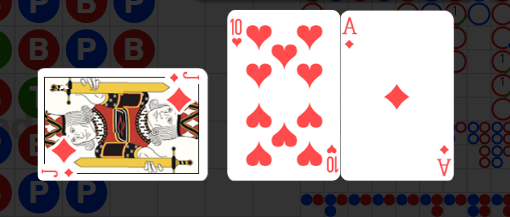10H: (229, 16, 243, 48)
AD: (434, 141, 451, 176)
